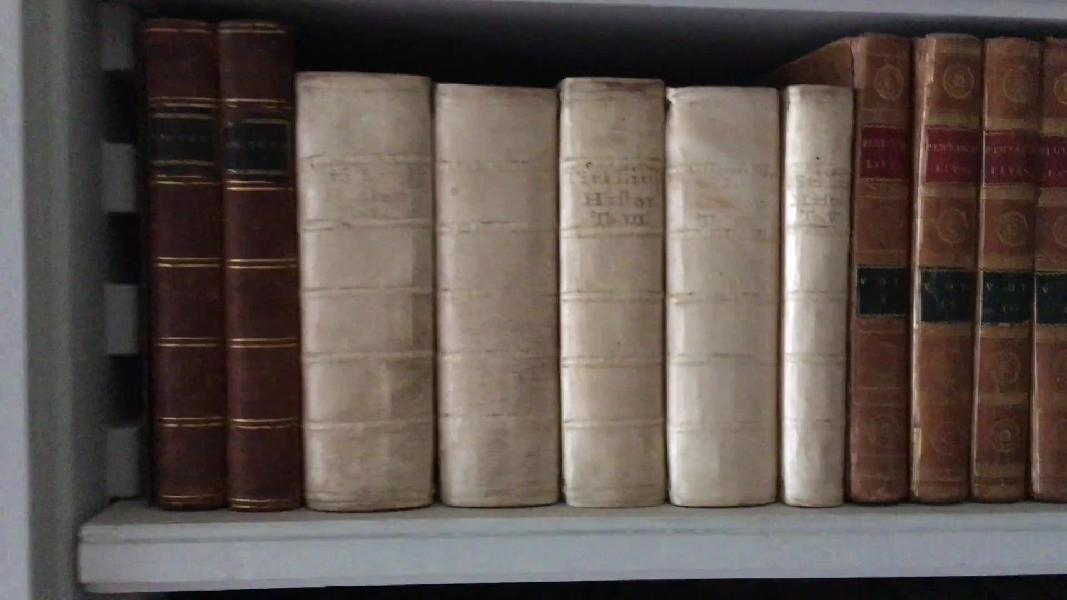Kk4-1_2: (138, 3, 298, 513)
Kk4-3_7: (285, 69, 857, 516)
Kk4-8_13: (854, 16, 1067, 519)
